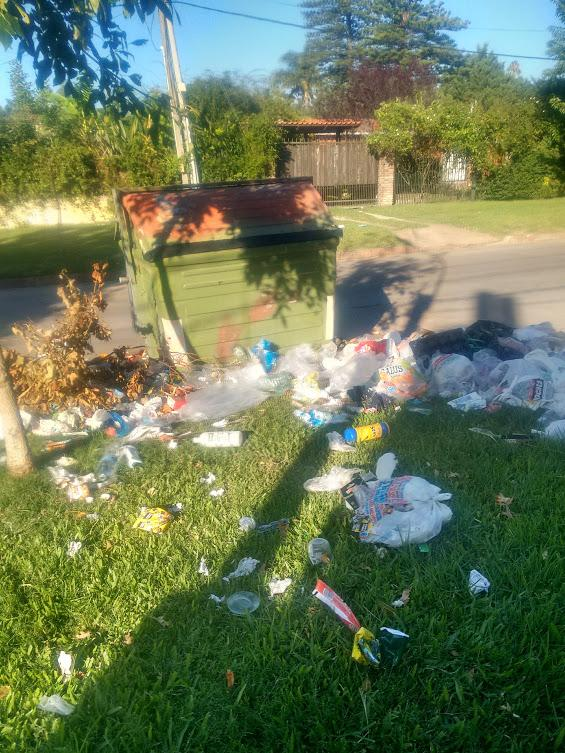Dechets: (24, 321, 564, 440), (304, 453, 452, 547), (313, 570, 388, 667), (49, 445, 141, 502), (32, 646, 84, 717), (124, 493, 177, 544), (188, 423, 252, 464), (220, 539, 258, 583), (222, 582, 268, 617), (458, 560, 497, 596), (343, 420, 392, 442)
Trash: (117, 178, 341, 364)
